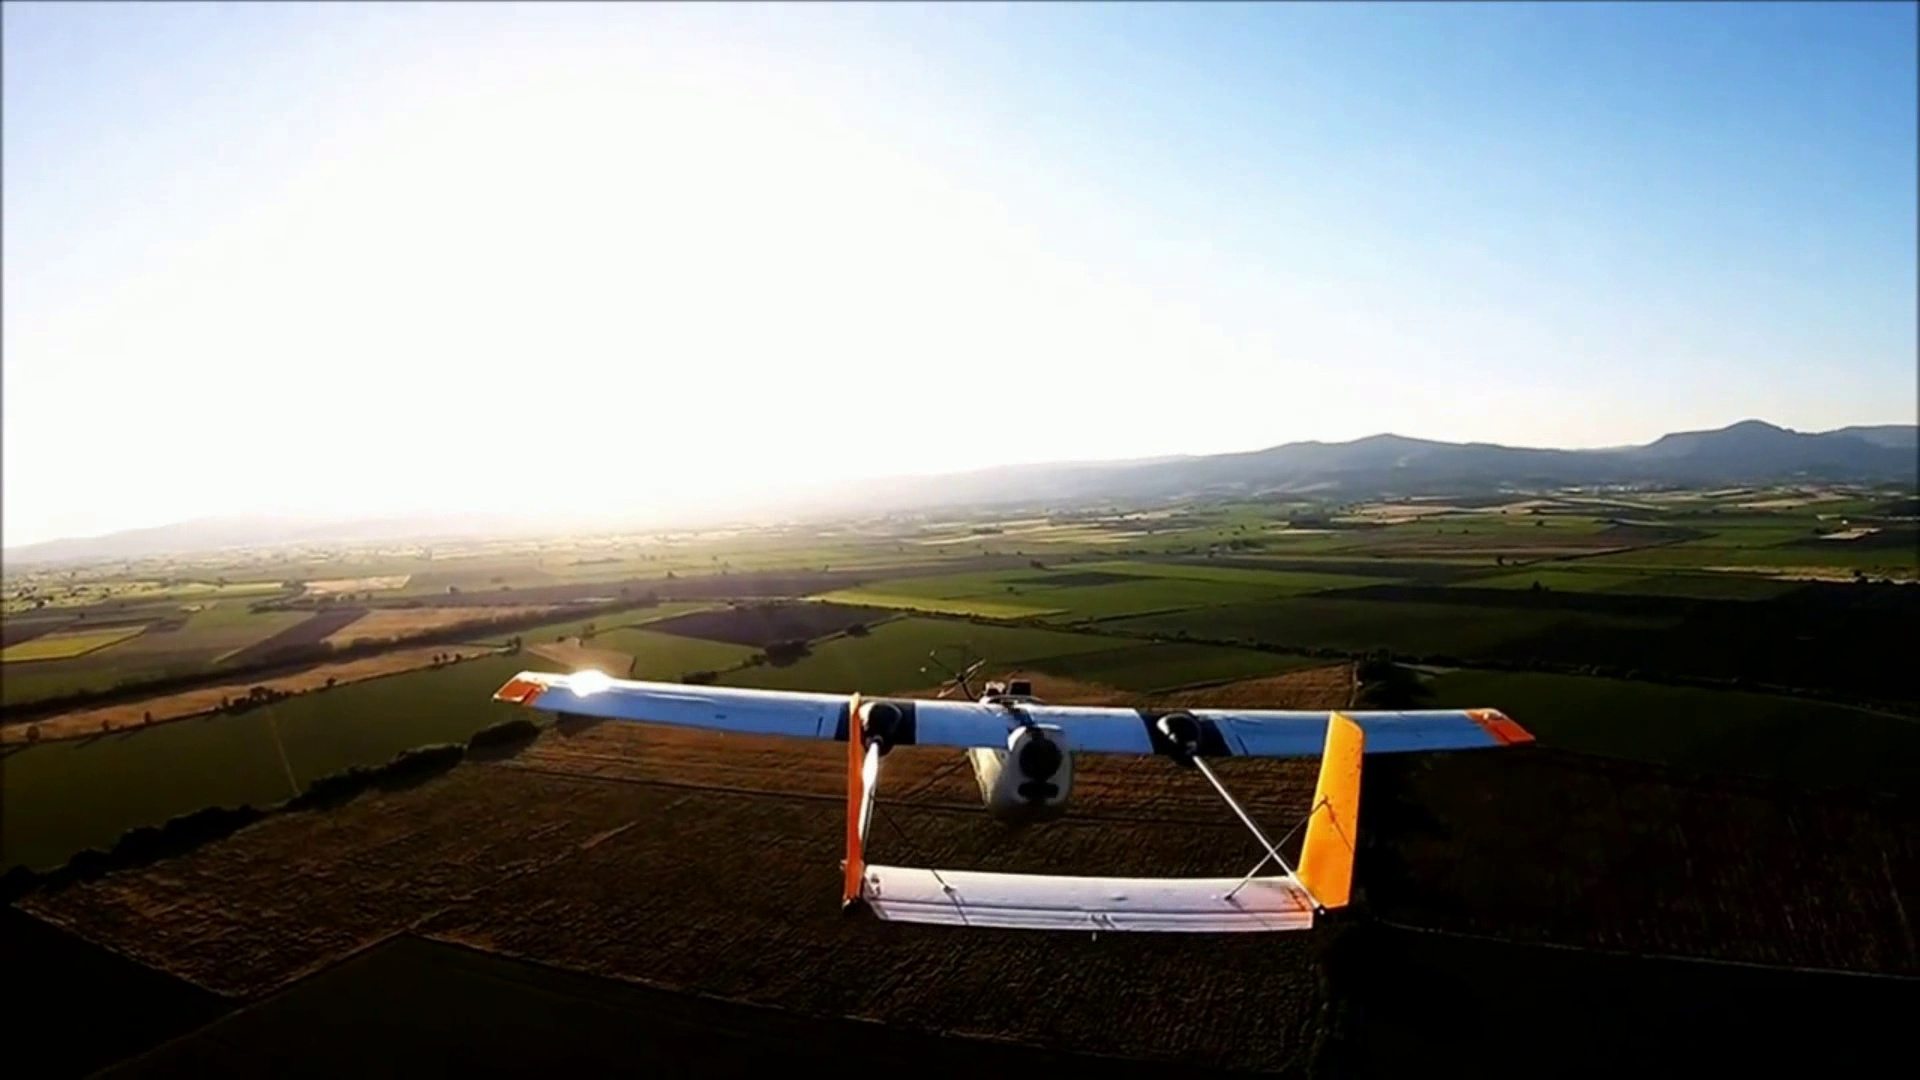airplane: (489, 669, 1539, 938)
